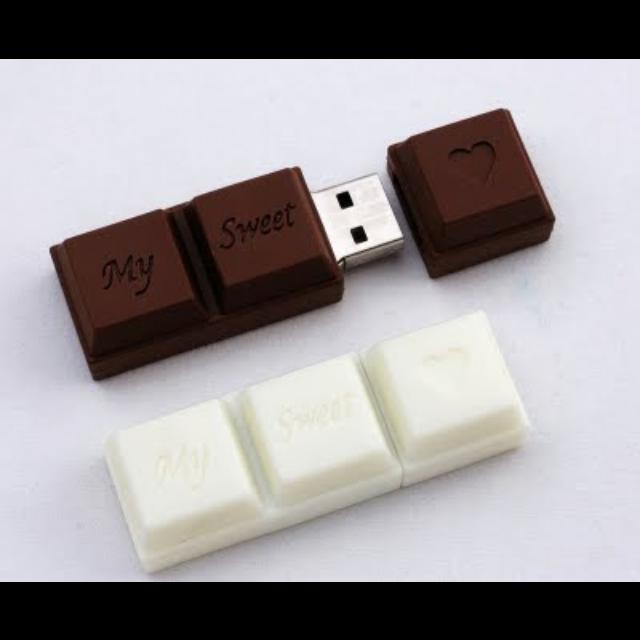USB-Flash-Drive: (48, 93, 552, 380)
